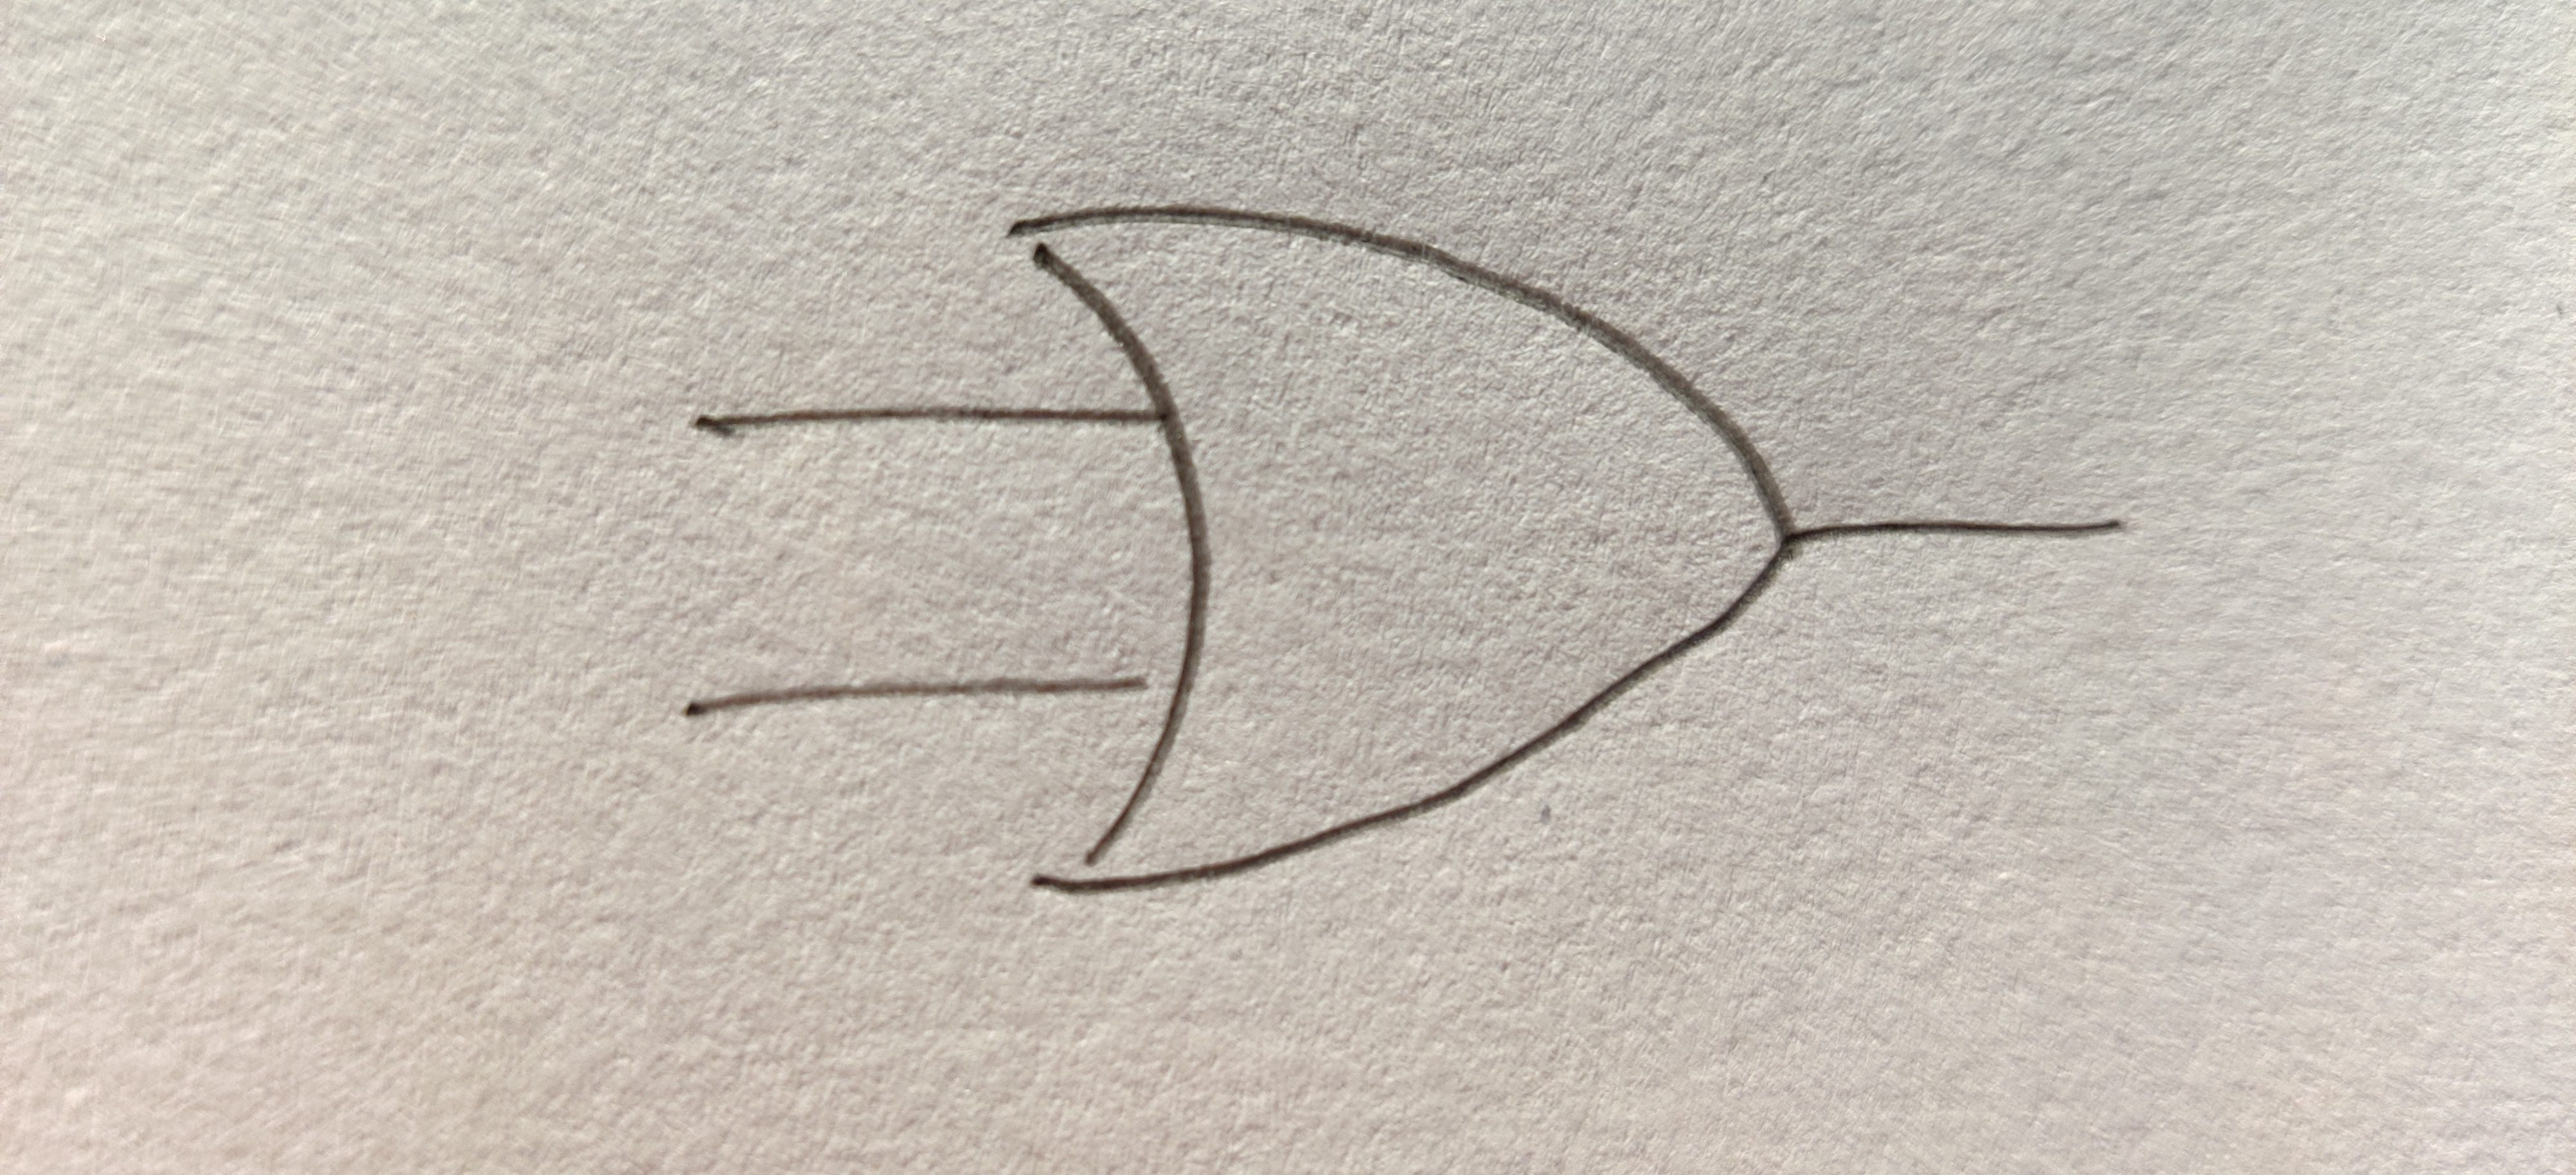or: (1015, 205, 1792, 889)
